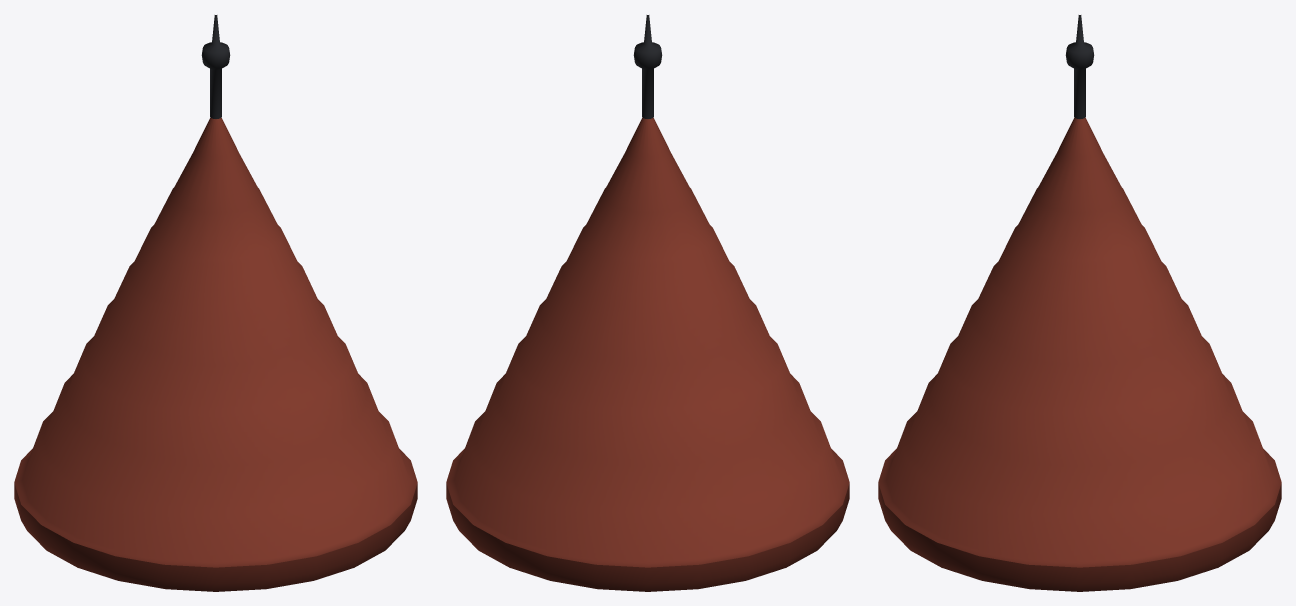
Rendered from roof.cone.red.glb.
3 renders of one model, left to right at view 1: azimuth 30°, elevation 25°; view 2: azimuth 150°, elevation 25°; view 3: azimuth 270°, elevation 25°, orthographic.
Visible parts, largest first — view 1: roof_cone_red; view 2: roof_cone_red; view 3: roof_cone_red.
Boxes of the visible parts, x1,y1,x2,y2 form: roof_cone_red: (14,15,417,591); roof_cone_red: (446,15,849,591); roof_cone_red: (878,15,1281,591).
Size of what is drawn, in the model's own units: 3.4 by 4.6 by 3.4.
